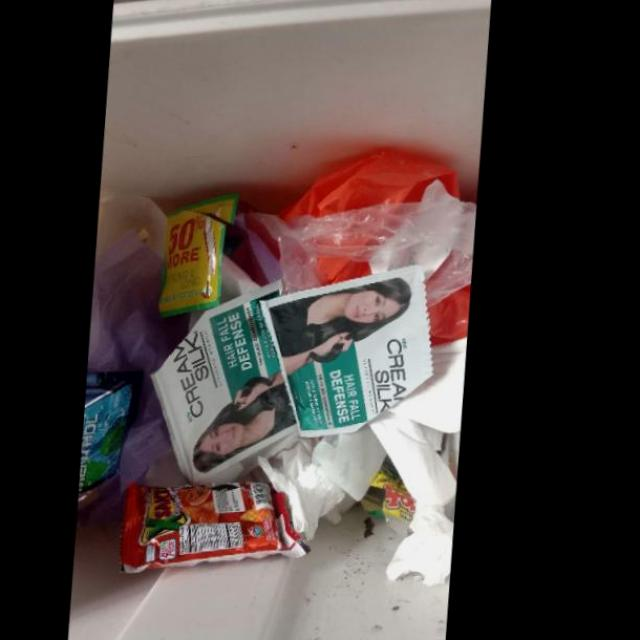bao_bi_thuc_pham: (130, 484, 322, 574)
goi_nhua_nho: (266, 267, 442, 440), (159, 281, 306, 483), (165, 195, 244, 319), (88, 373, 141, 494)
